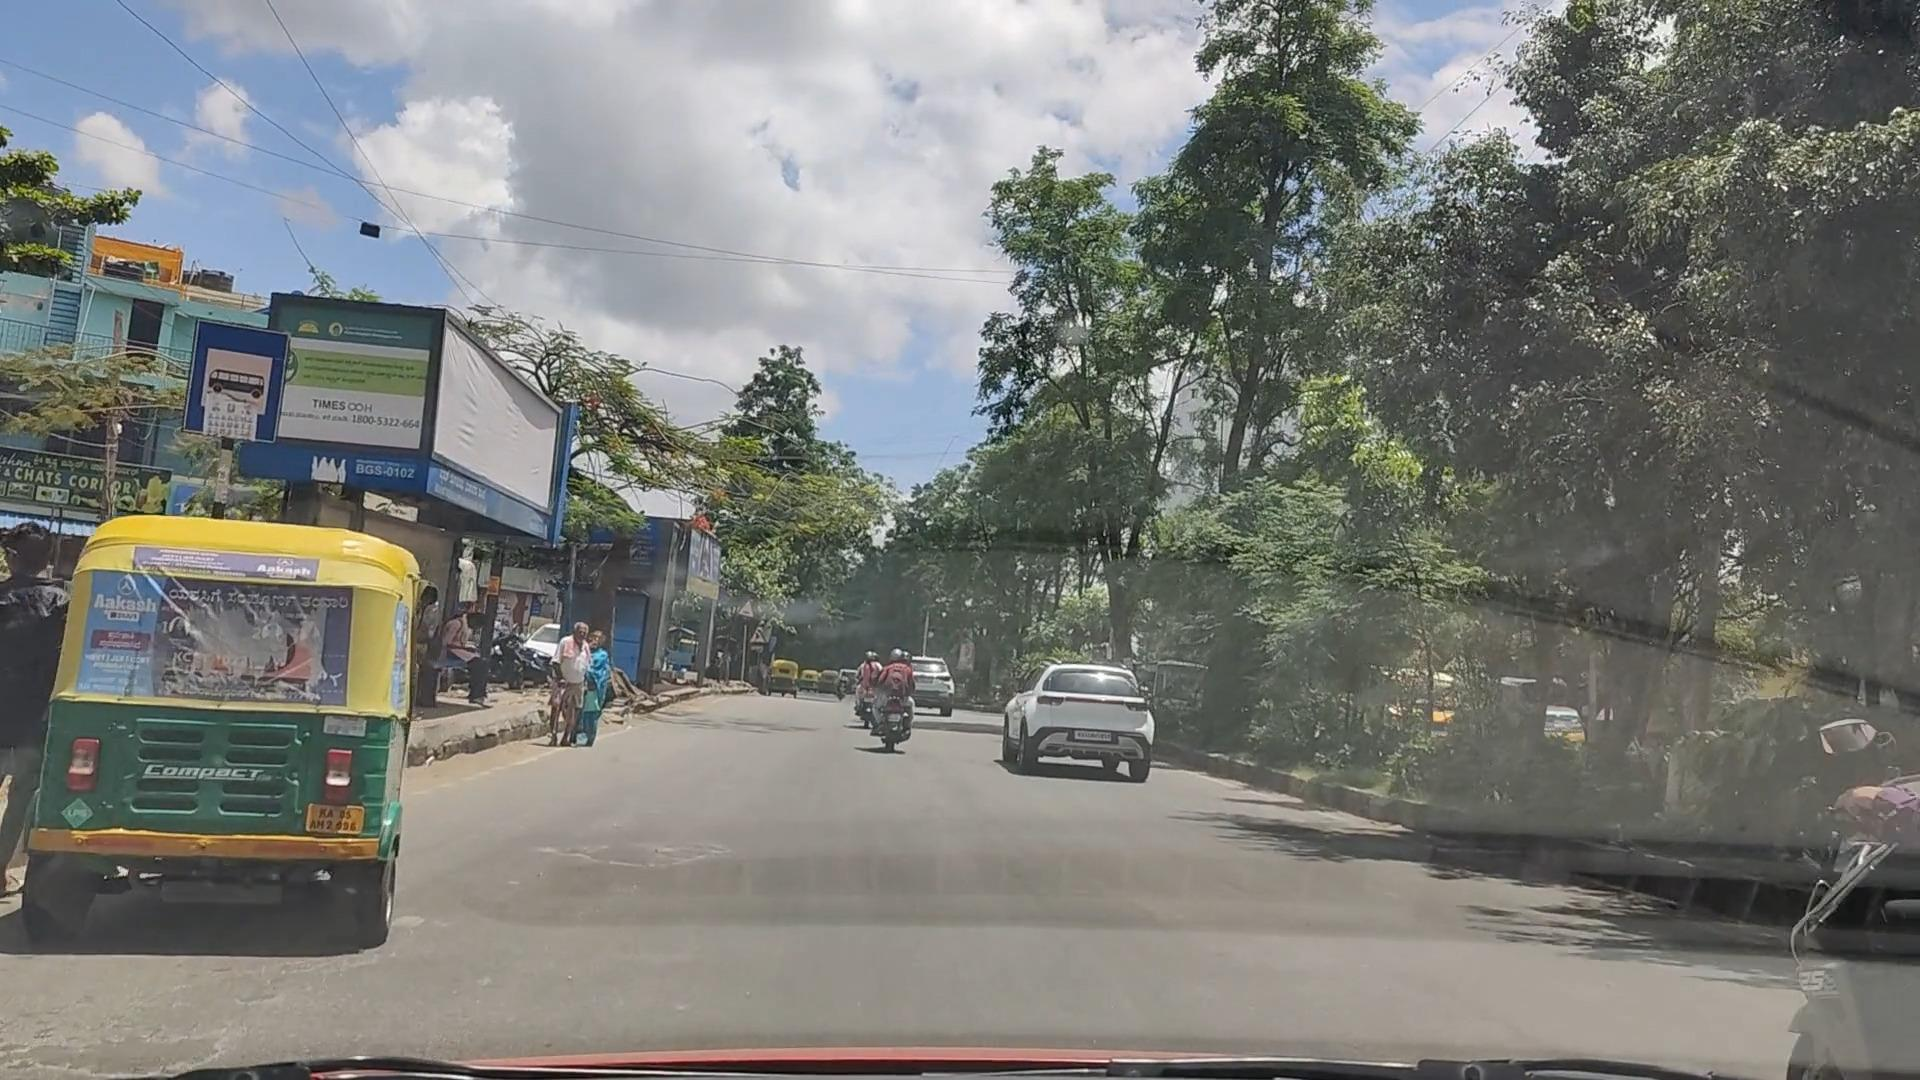LMV: (66, 500, 426, 955), (1002, 658, 1154, 787), (874, 641, 927, 754)
